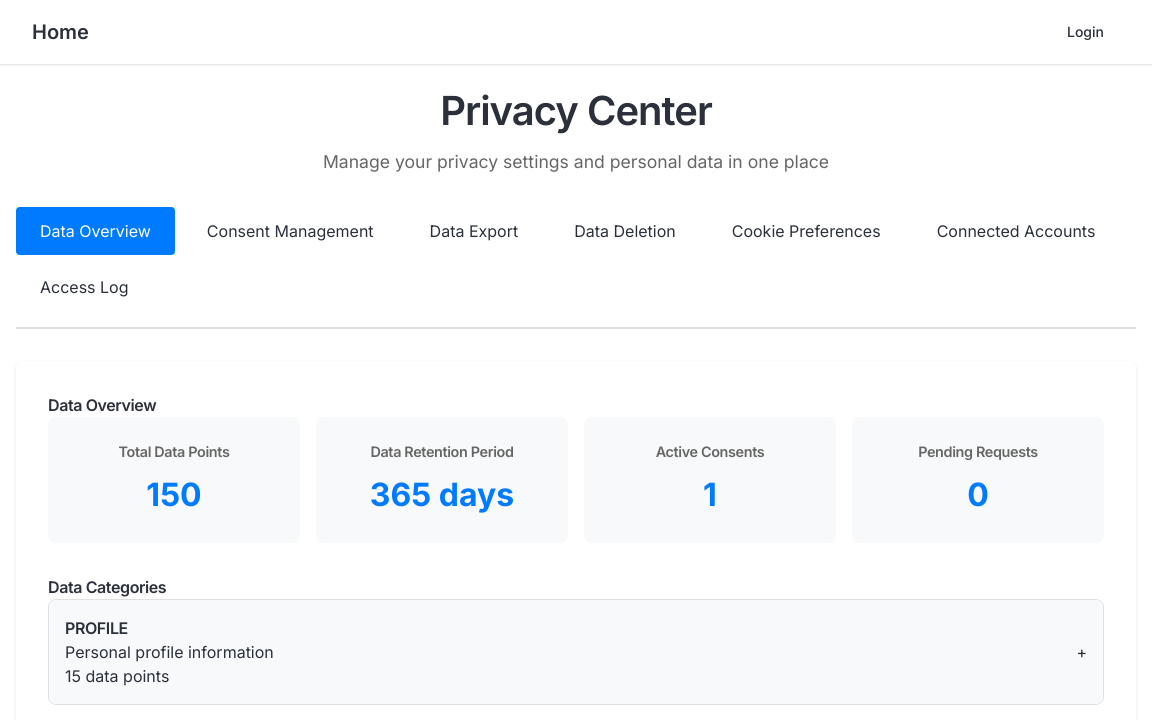
PrivacyCenter Page › Access Log › should display recent access entries
// Switch to Access Log tab
Click the button "Access Log": (84, 287) [16, 263, 152, 311]
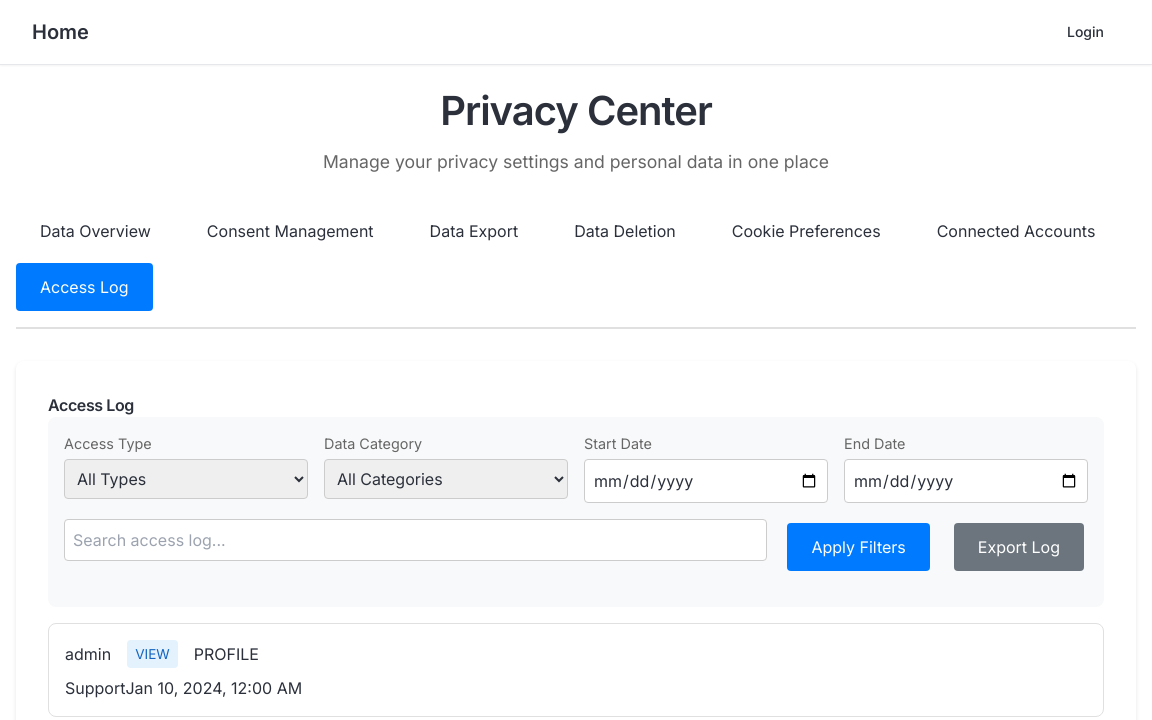
Expected: the text "VIEW" is shown, [127, 640, 178, 668]
Expected: the text "admin" is shown, [65, 642, 111, 666]
Expected: the text "Support" is shown, [65, 678, 125, 698]
